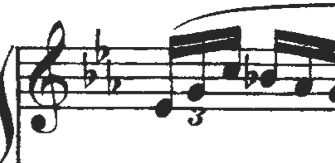flat: (88, 22, 114, 71), (77, 48, 101, 93), (103, 57, 126, 103)
treble_clef: (25, 15, 76, 147)
